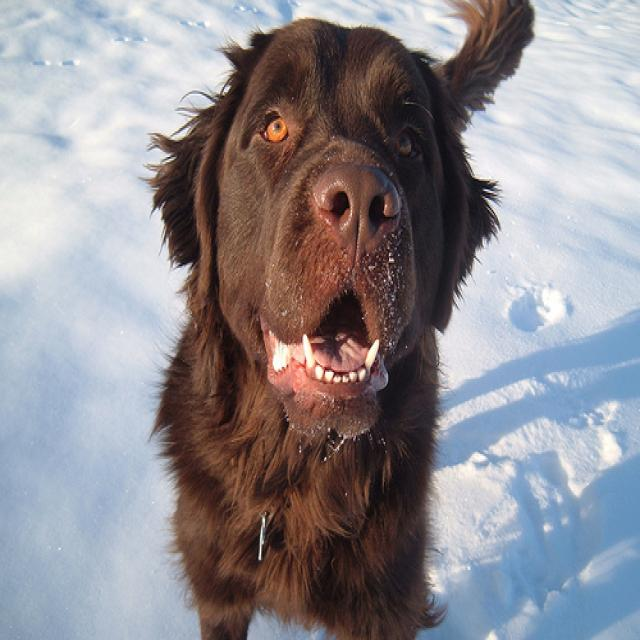dog-newfoundland: (140, 2, 541, 637)
